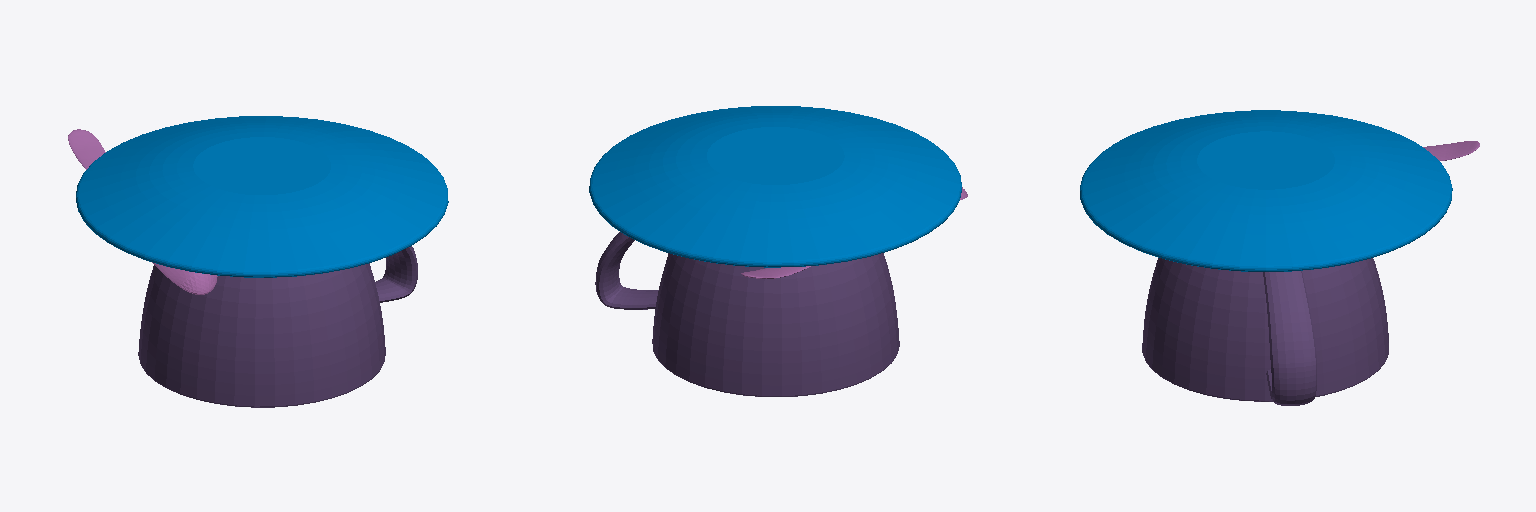
File: coffee.obj
The picture shows the model from 3 angles: view 1: azimuth 30°, elevation 25°; view 2: azimuth 150°, elevation 25°; view 3: azimuth 270°, elevation 25°; orthographic projection.
Parts seen in each view (by area): view 1: coffee; view 2: coffee; view 3: coffee.
Part boxes in pixels (x1,y1,x2,y2): coffee: (68, 116, 448, 407); coffee: (589, 106, 967, 396); coffee: (1080, 110, 1479, 405).
Size of the model in its own units: 3.99 by 2.24 by 4.28.